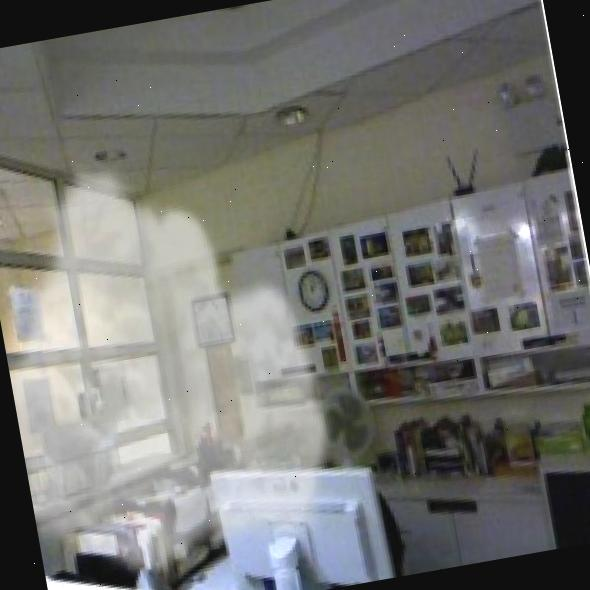smoke: (0, 124, 358, 590)
